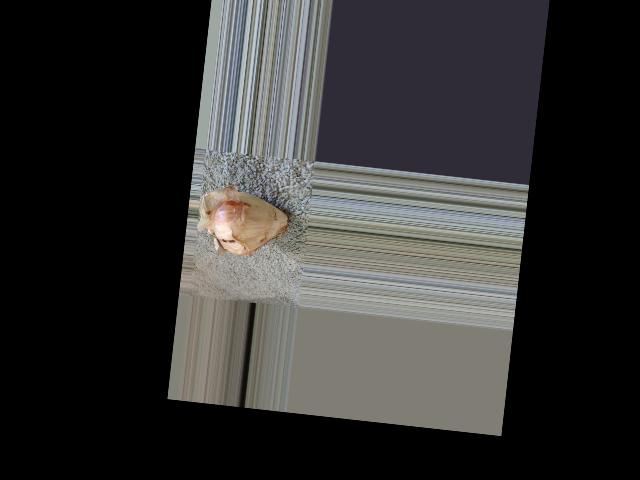onion: (212, 193, 292, 261)
